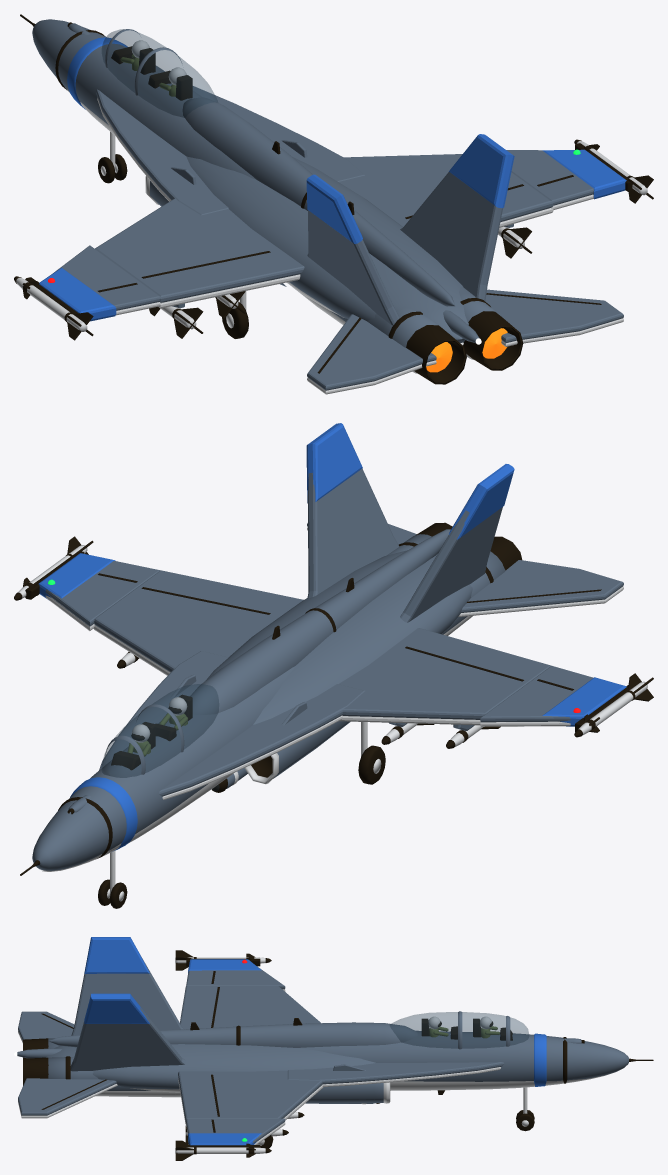
3 renders of one model, top to bottom at view 1: azimuth 30°, elevation 25°; view 2: azimuth 150°, elevation 25°; view 3: azimuth 270°, elevation 25°, orthographic. The views are drawn at different scales.
Visible parts, largest first — view 1: fuselage_mid, wing_L, fuselage, cockpit_fairing, fin_R, wing_R, canopy, stabilator_L, lerx_L, stabilator_R, fin_L, wing_outer_L (+15 smaller); view 2: fuselage, wing_L, wing_R, fuselage_mid, cockpit_fairing, fin_R, canopy, lerx_L, stabilator_L, fin_L, wing_outer_L, wing_outer_R (+14 smaller); view 3: fuselage, fuselage_mid, wing_R, cockpit_fairing, wing_L, fin_R, canopy, fin_L, lerx_R, stabilator_R, livery_fin_L, livery_fin_R (+15 smaller).
Boxes of the visible parts, bbox=[...] form: fuselage_mid: bbox=[186, 156, 468, 342]; wing_L: bbox=[95, 198, 304, 302]; fuselage: bbox=[32, 19, 255, 179]; cockpit_fairing: bbox=[182, 97, 455, 306]; fin_R: bbox=[400, 172, 503, 301]; wing_R: bbox=[338, 154, 553, 226]; canopy: bbox=[102, 29, 217, 117]; stabilator_L: bbox=[307, 314, 436, 390]; lerx_L: bbox=[96, 89, 228, 215]; stabilator_R: bbox=[485, 289, 623, 342]; fin_L: bbox=[307, 210, 399, 325]; wing_outer_L: bbox=[54, 245, 160, 310]; fuselage: bbox=[32, 666, 295, 870]; wing_L: bbox=[338, 628, 550, 719]; wing_R: bbox=[94, 570, 303, 672]; fuselage_mid: bbox=[205, 550, 472, 724]; cockpit_fairing: bbox=[190, 529, 450, 714]; fin_R: bbox=[307, 468, 399, 598]; canopy: bbox=[102, 684, 218, 777]; lerx_L: bbox=[159, 684, 364, 796]; stabilator_L: bbox=[461, 560, 623, 612]; fin_L: bbox=[400, 507, 502, 622]; wing_outer_L: bbox=[480, 665, 593, 722]; wing_outer_R: bbox=[45, 561, 159, 626]; fuselage: bbox=[298, 1031, 628, 1081]; fuselage_mid: bbox=[46, 1044, 375, 1089]; wing_R: bbox=[178, 1070, 322, 1121]; cockpit_fairing: bbox=[49, 1022, 417, 1047]; wing_L: bbox=[180, 986, 320, 1029]; fin_R: bbox=[70, 1007, 185, 1071]; canopy: bbox=[390, 1012, 528, 1048]; fin_L: bbox=[71, 955, 183, 1035]; lerx_R: bbox=[287, 1062, 503, 1084]; stabilator_R: bbox=[18, 1078, 116, 1115]; livery_fin_L: bbox=[84, 937, 149, 974]; livery_fin_R: bbox=[84, 993, 149, 1023].
Bounding box in the file's own units: 13.58 × 5.24 × 18.65.
